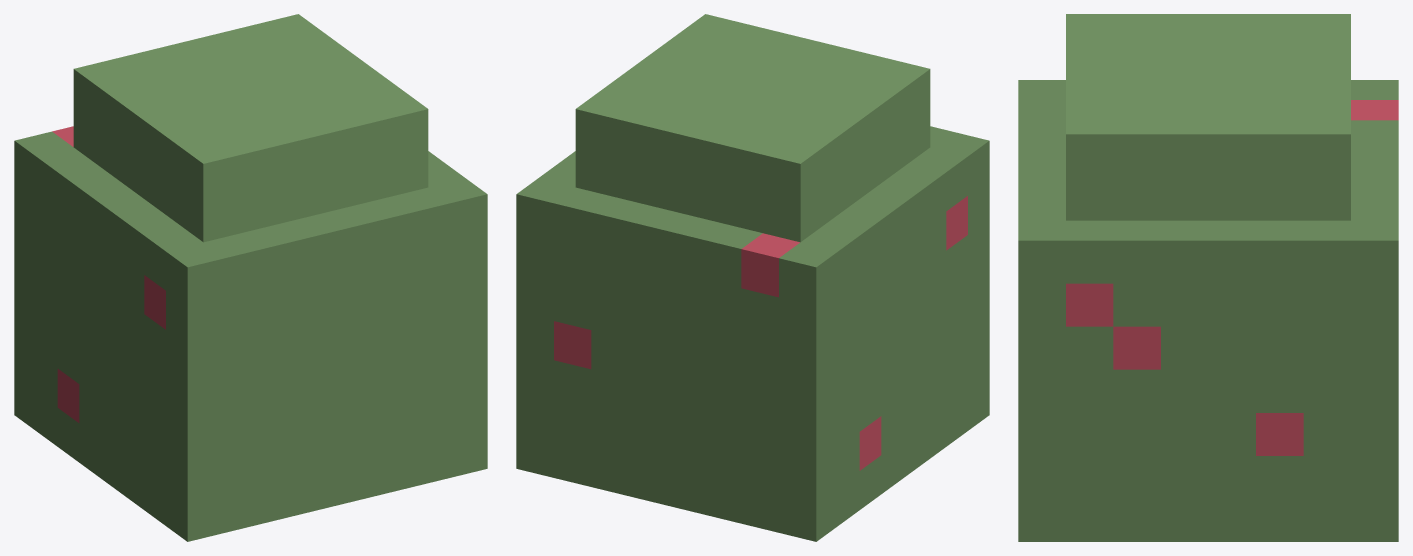
Rendered from fresa_silvestre_01.glb.
3 renders of one model, left to right at view 1: azimuth 30°, elevation 25°; view 2: azimuth 150°, elevation 25°; view 3: azimuth 270°, elevation 25°, orthographic. The views are drawn at different scales.
Visible parts, largest first — view 1: fresa_silvestre_01; view 2: fresa_silvestre_01; view 3: fresa_silvestre_01.
Part boxes in pixels (x1,y1,x2,y2): fresa_silvestre_01: (14, 14, 487, 541); fresa_silvestre_01: (516, 14, 989, 541); fresa_silvestre_01: (1018, 14, 1398, 541).
Size of the model in its own units: 0.8 by 0.9 by 0.8.
